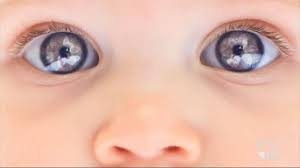pupil: (38, 33, 88, 73), (217, 31, 264, 71)
